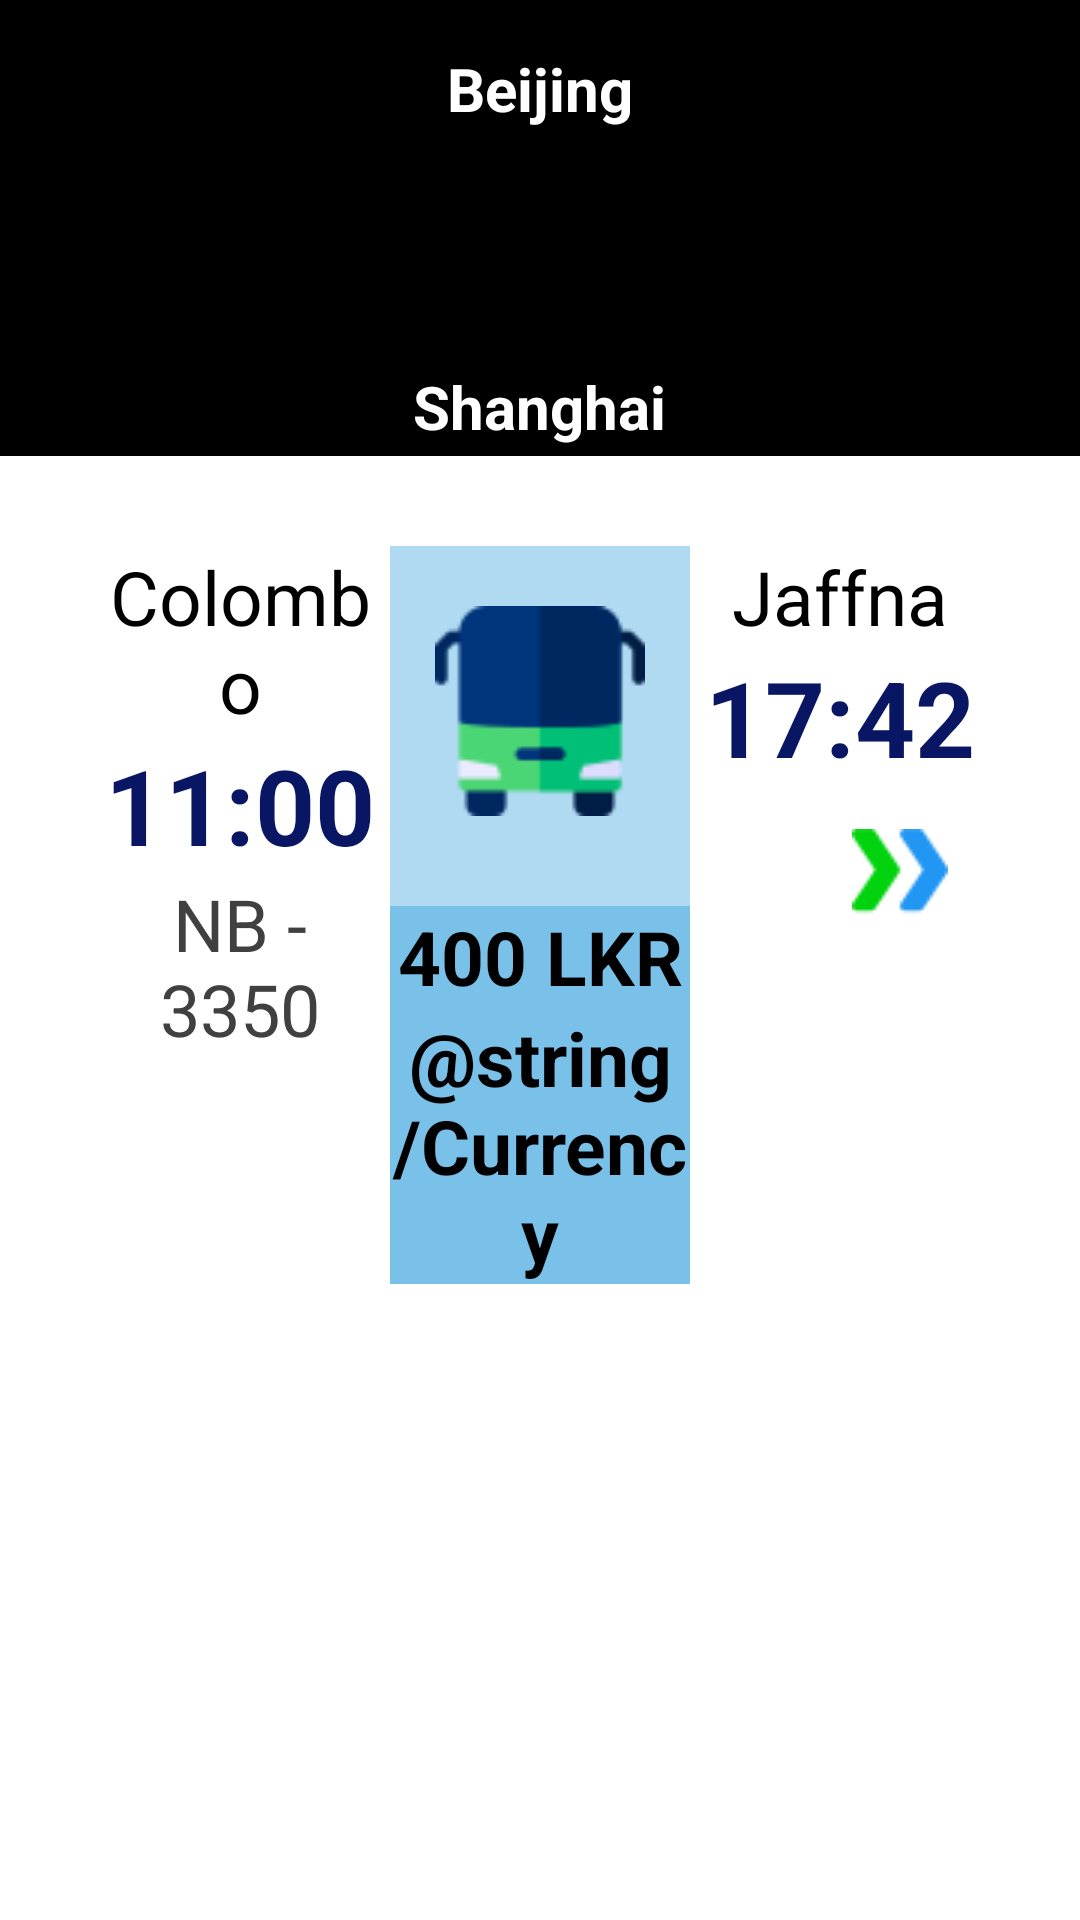

Point at icon controls on the screen. Image size 1080*1920, points as [x,y].
btnarrow: [900,871]
imgbus: [540,711]
